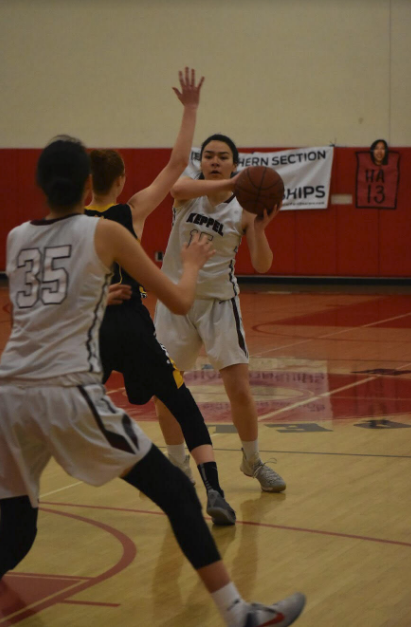ball: (233, 166, 289, 215)
player: (5, 133, 248, 623), (76, 67, 231, 523), (161, 131, 266, 494)
